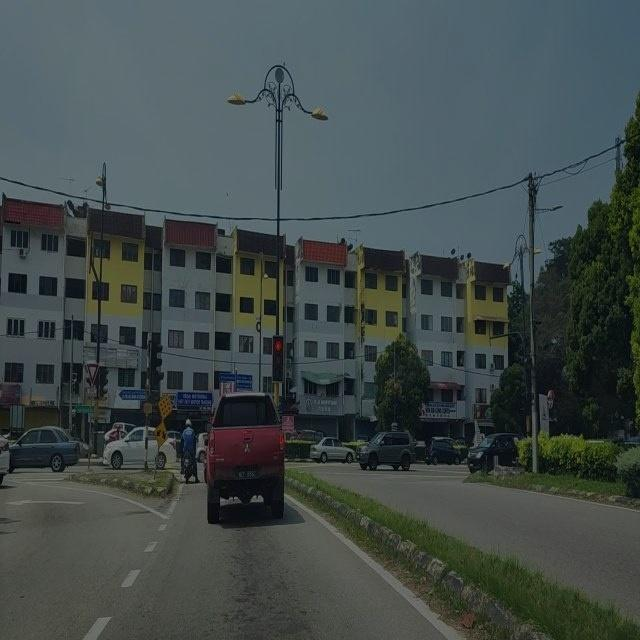Red: (272, 334, 284, 380)
